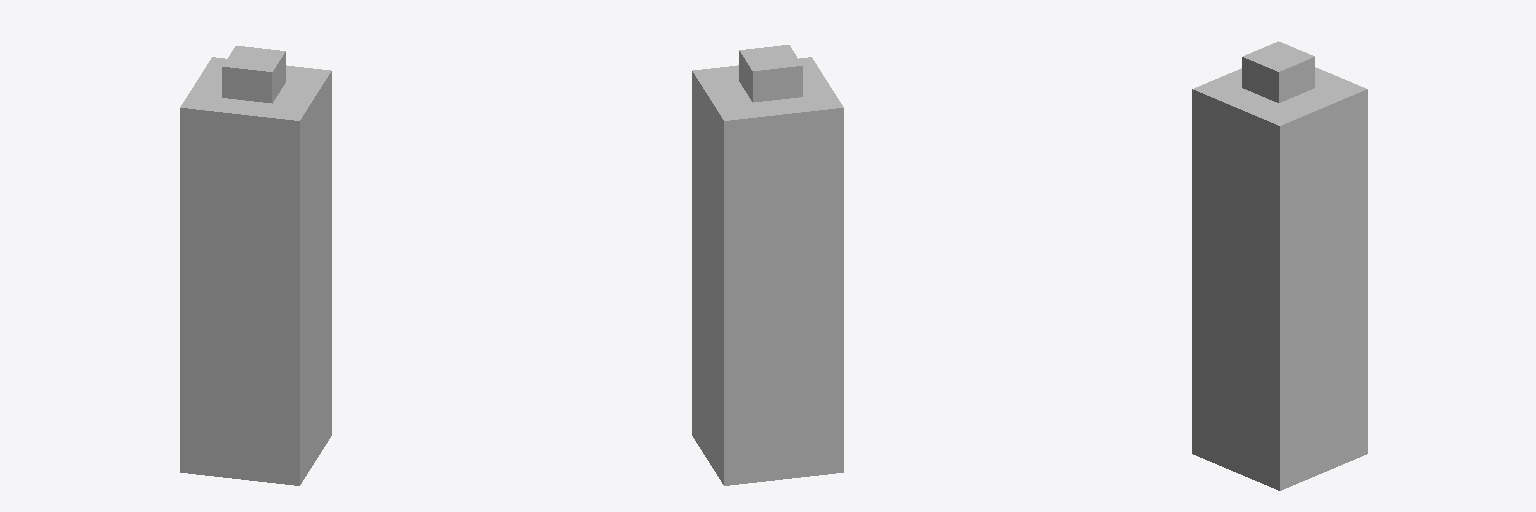
The model's file is ES_CAT_BCN_hotelarts.obj.
3 views of the same model, side by side, from view 1: azimuth 30°, elevation 25°; view 2: azimuth 150°, elevation 25°; view 3: azimuth 270°, elevation 25° (orthographic).
Parts seen in each view (by area): view 1: Cube.002, Cube.001; view 2: Cube.002, Cube.001; view 3: Cube.002, Cube.001.
Boxes of the visible parts, box(x1,y1,x2,y2) form: Cube.002: box(180, 57, 331, 485); Cube.001: box(222, 46, 285, 103); Cube.002: box(692, 57, 843, 485); Cube.001: box(739, 45, 802, 102); Cube.002: box(1192, 67, 1367, 490); Cube.001: box(1242, 41, 1314, 102).
Size of the model in its own units: 67 by 167 by 67.